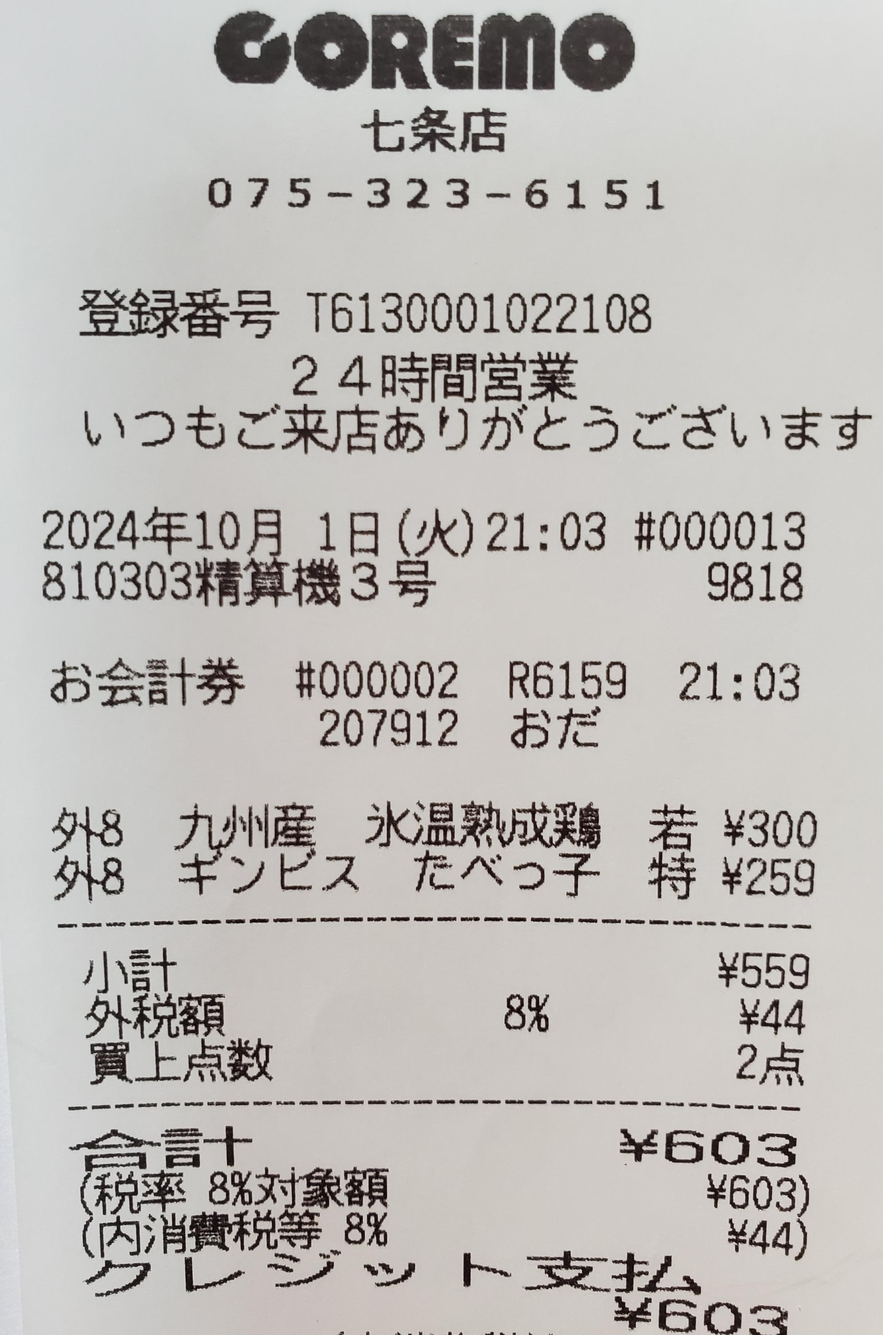TEL: (200, 162, 681, 225)
date: (38, 495, 392, 556)
total: (660, 1117, 811, 1168)
